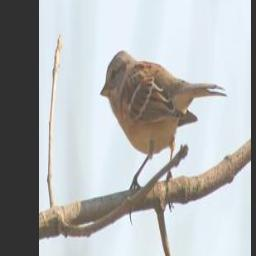Sparrow: (99, 47, 229, 224)
